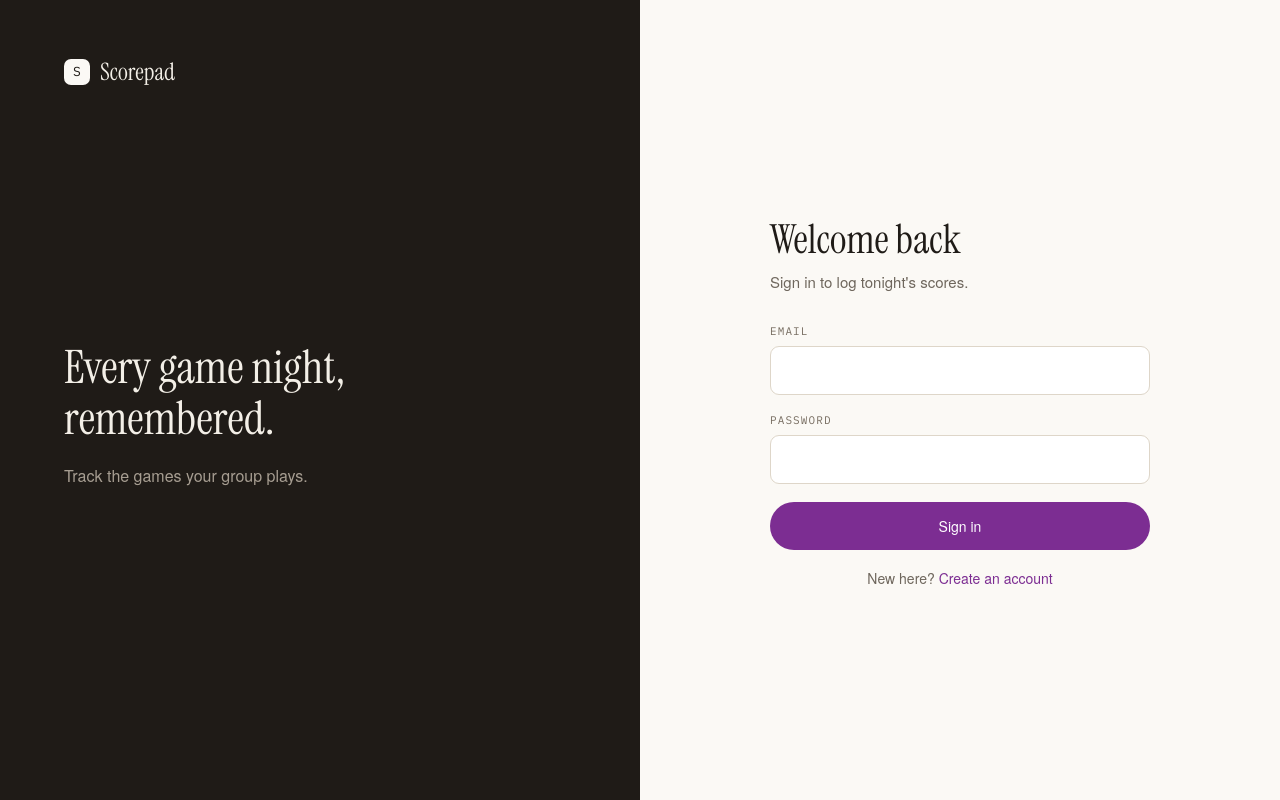
login › logs in and lands on the games page
This screenshot has width=1280, height=800.
In the field labelled "Email": (960, 370) [770, 346, 1150, 394], type "toto@example.com"
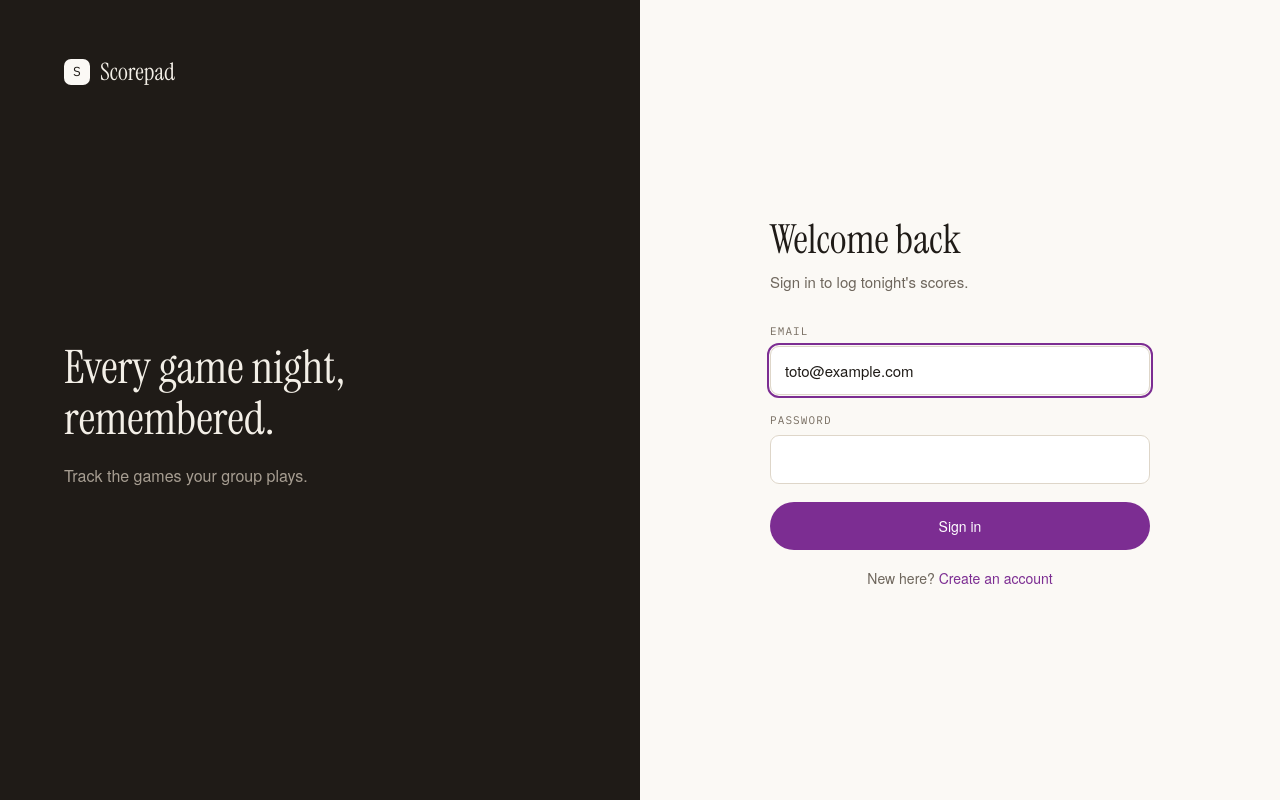
In the password field labelled "Password": (960, 459) [770, 434, 1150, 484], type "securepassword123"
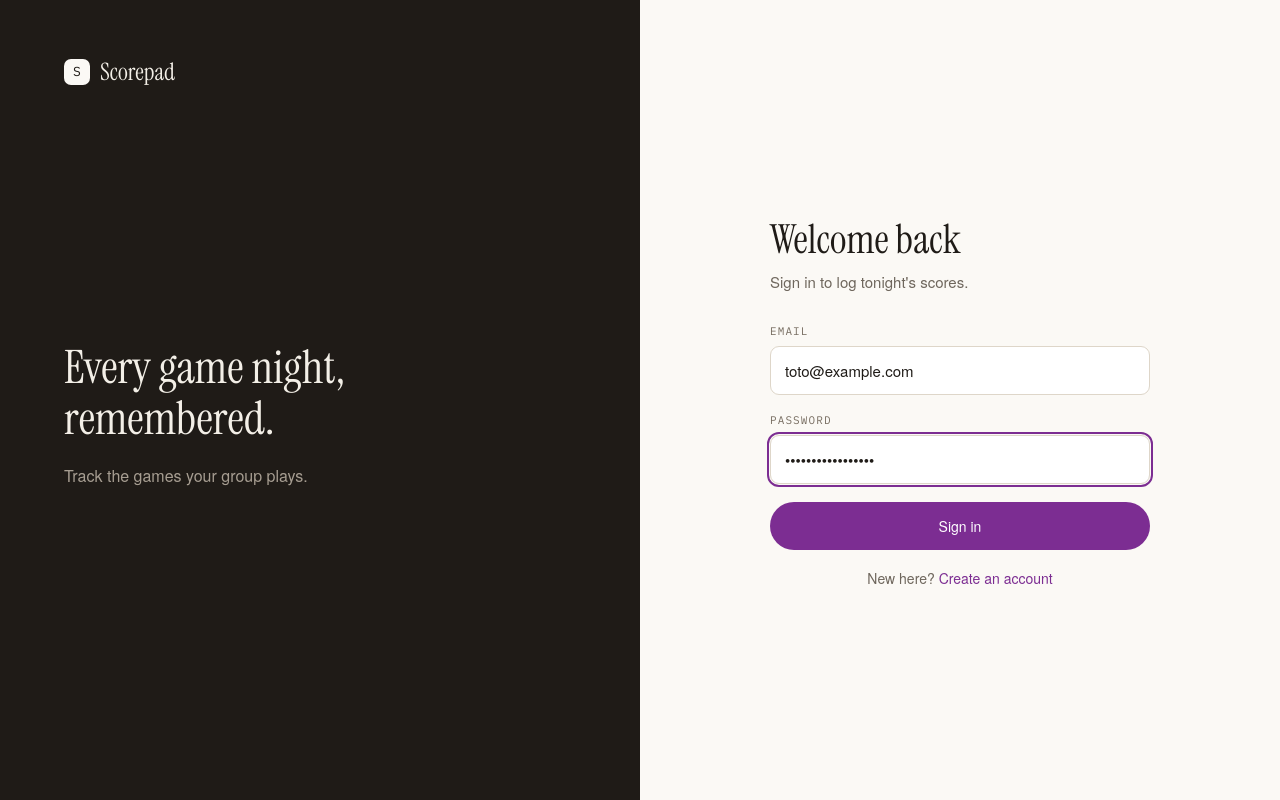
Click the button "Sign in": click(960, 526) [770, 502, 1150, 550]
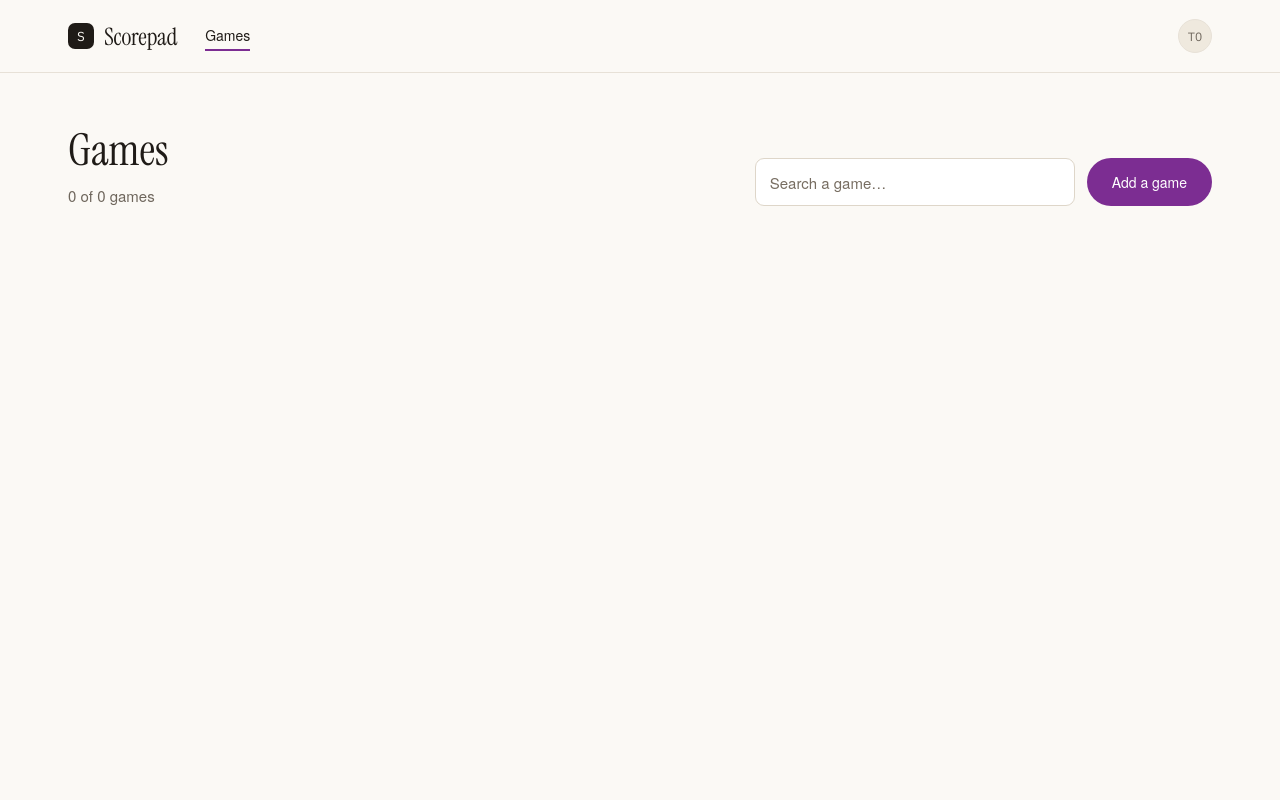
Expected: the heading "Games" is shown, [68, 121, 169, 179]
